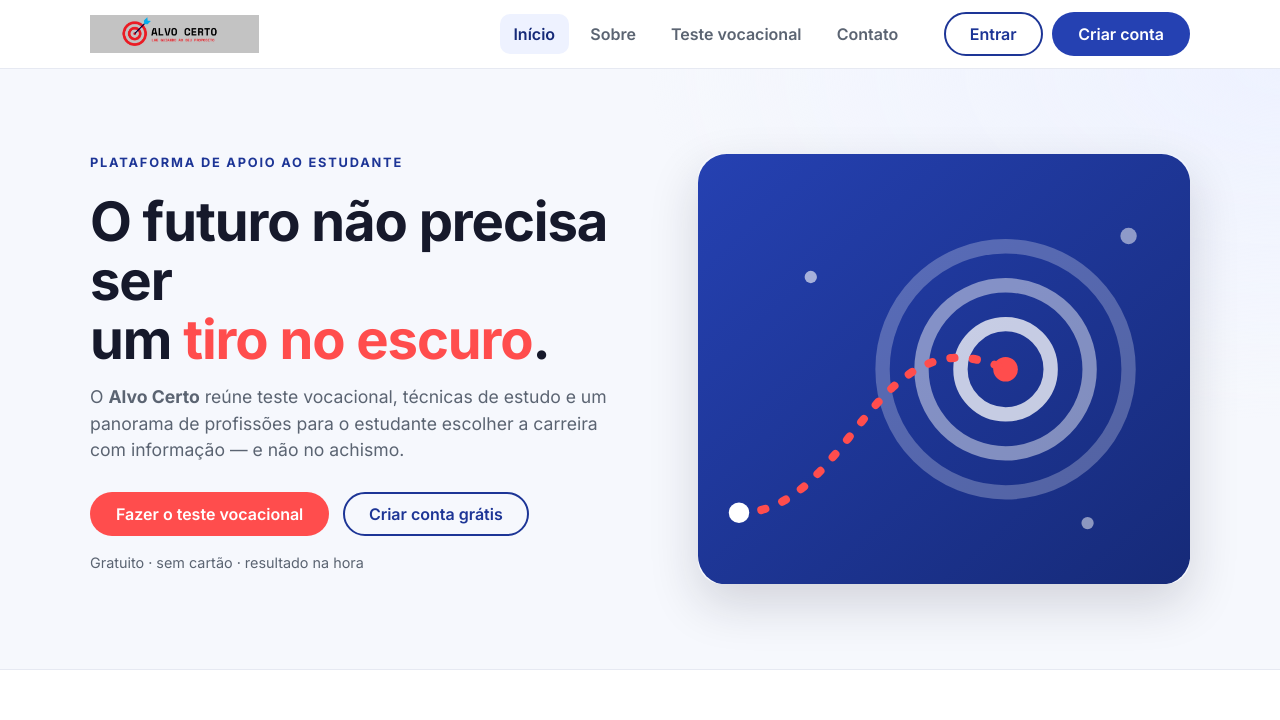
Test case: Navegação principal do site › navega para a página Sobre
This screenshot has width=1280, height=720.
Click the link "Sobre". click: point(613, 34)
box: 590,24 -> 636,44
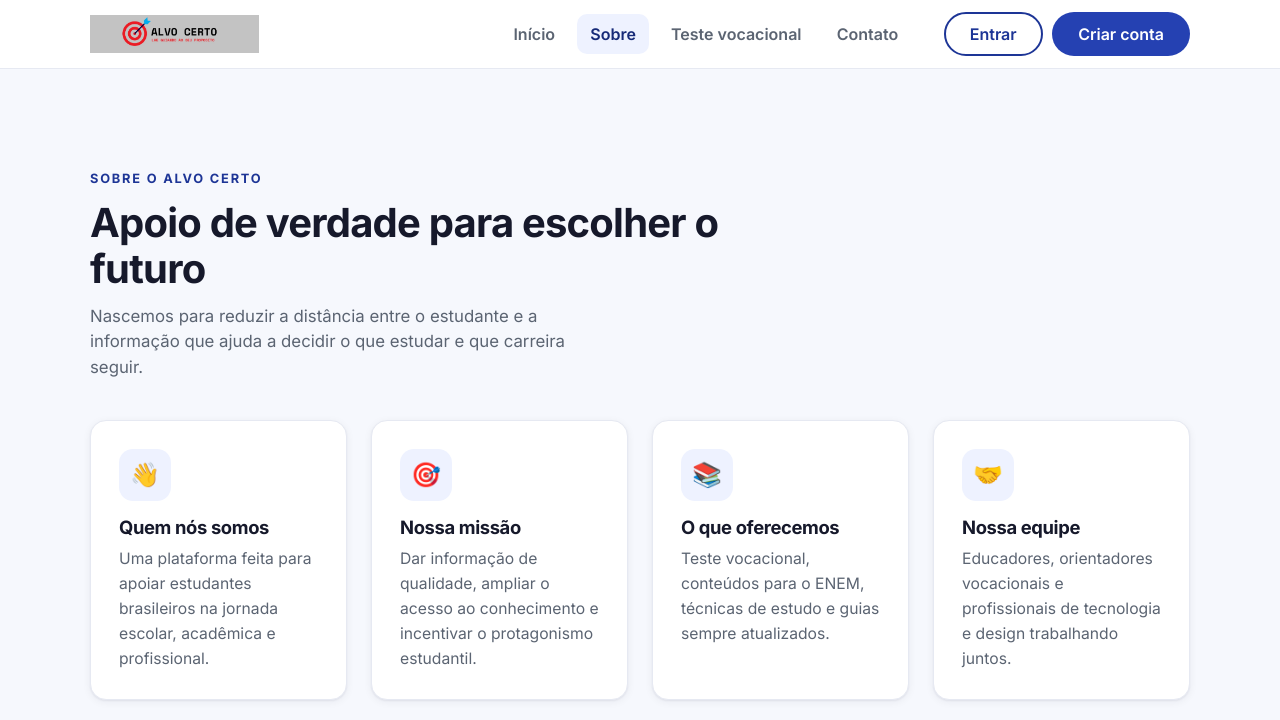
Expected: the heading "Nossa missão" is shown, 400,516 -> 521,538
Expected: the heading "O que oferecemos" is shown, 681,516 -> 839,538
